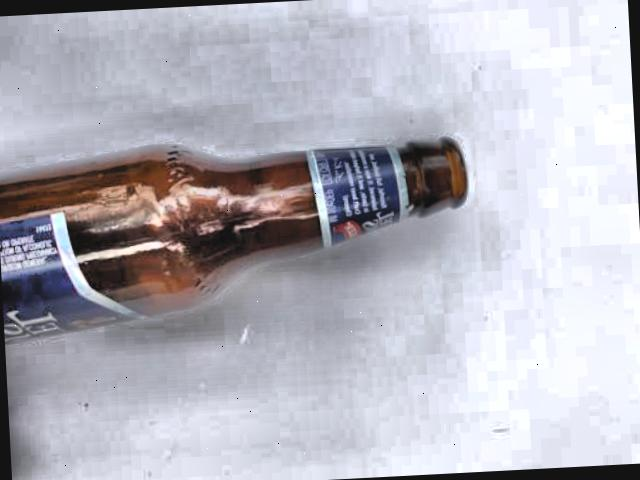Bottles: (0, 93, 493, 376)
